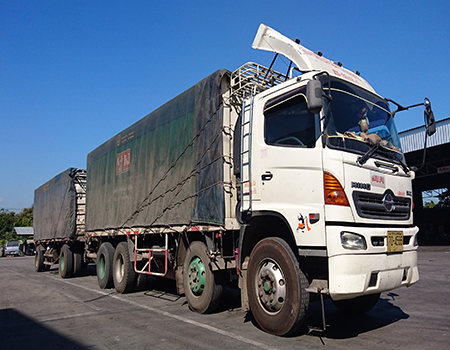truck: (233, 19, 421, 337)
